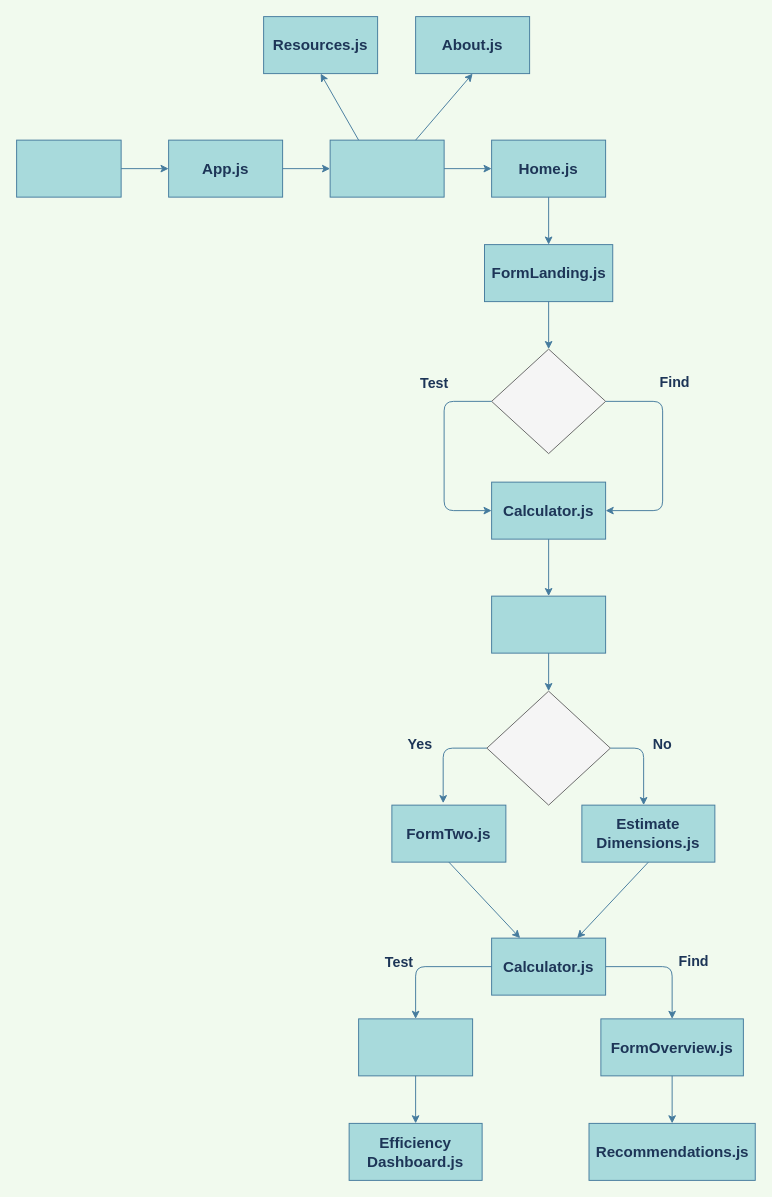
This 772x1197 diagram has some shape labels left out. The shapes that lost their labels are listed below. From the top down, each one's box as (x1, y1, x2, y2) in pixels, then its label:
(16, 139, 121, 197): Index.js
(329, 139, 444, 197): Routes.js
(491, 348, 606, 454): Test or find air cleaner
(491, 595, 606, 653): FormOne.js
(486, 690, 610, 805): User knows room dimensions?
(358, 1018, 473, 1076): FormThree.js
